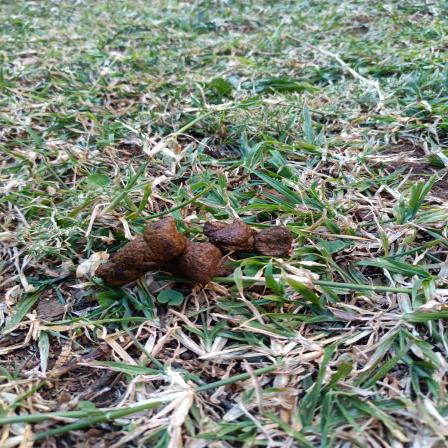dog-poop: (88, 204, 318, 293)
